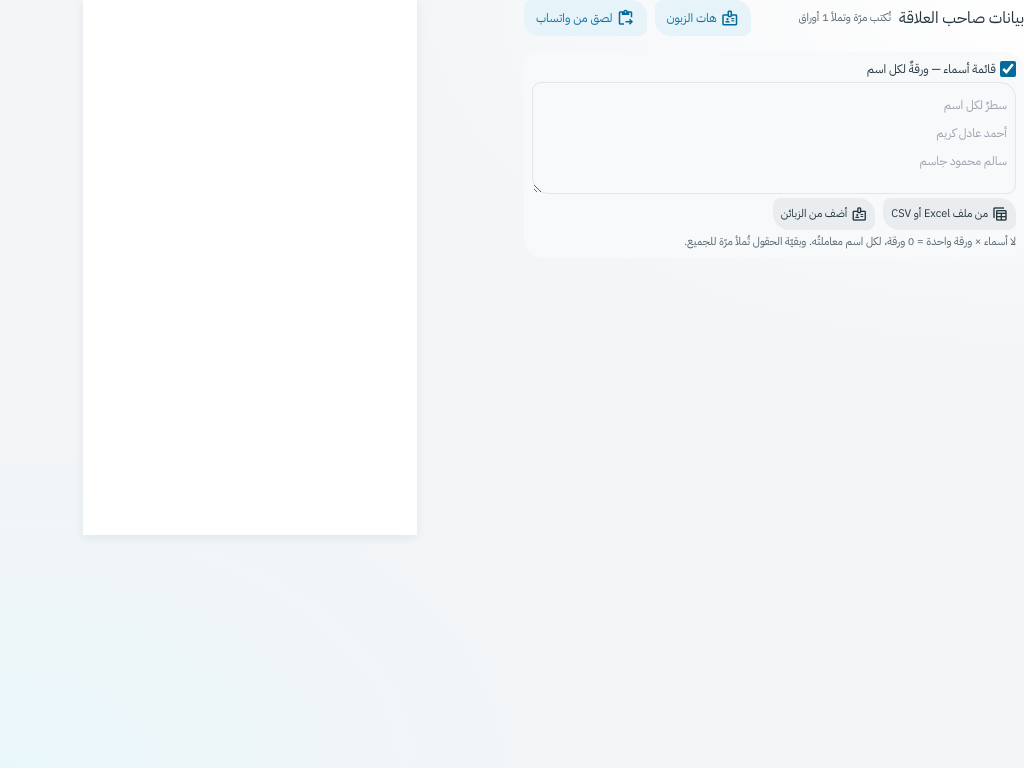
Test: الدمج في الشبّاك من جدول Excel أو CSV (D121 — S36) › ملفّ الأسماء الذي لا يُقرأ أو الفارغ يُقال تحت الزرّ (D137) › والفارغ يُقال باسمه، والذي أعمدته أرقامٌ كذلك
The width and height of the screenshot is (1024, 768).
Click the button "من ملف Excel أو CSV" at (950, 214), box [883,198,1016,230]
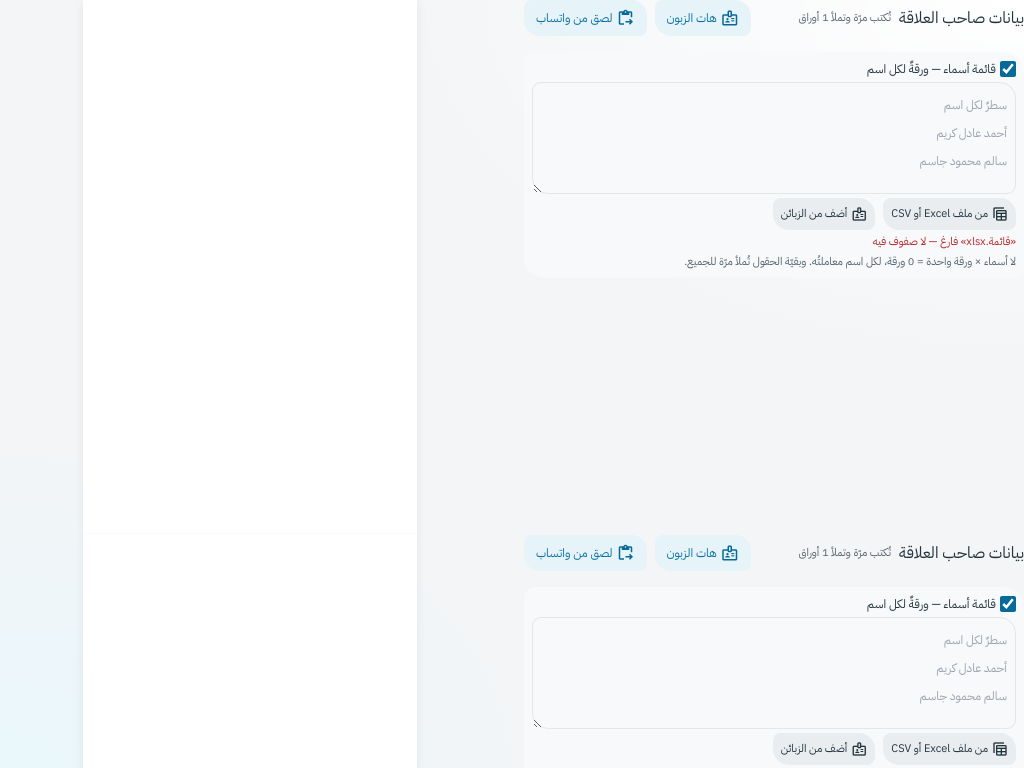
Check: the message "«قائمة.xlsx» فارغ — لا صفوف فيه" is shown, box [873,233,1016,250]
Click the 2nd button "من ملف Excel أو CSV" at (950, 749), box [883,733,1016,765]
(page scrolled)
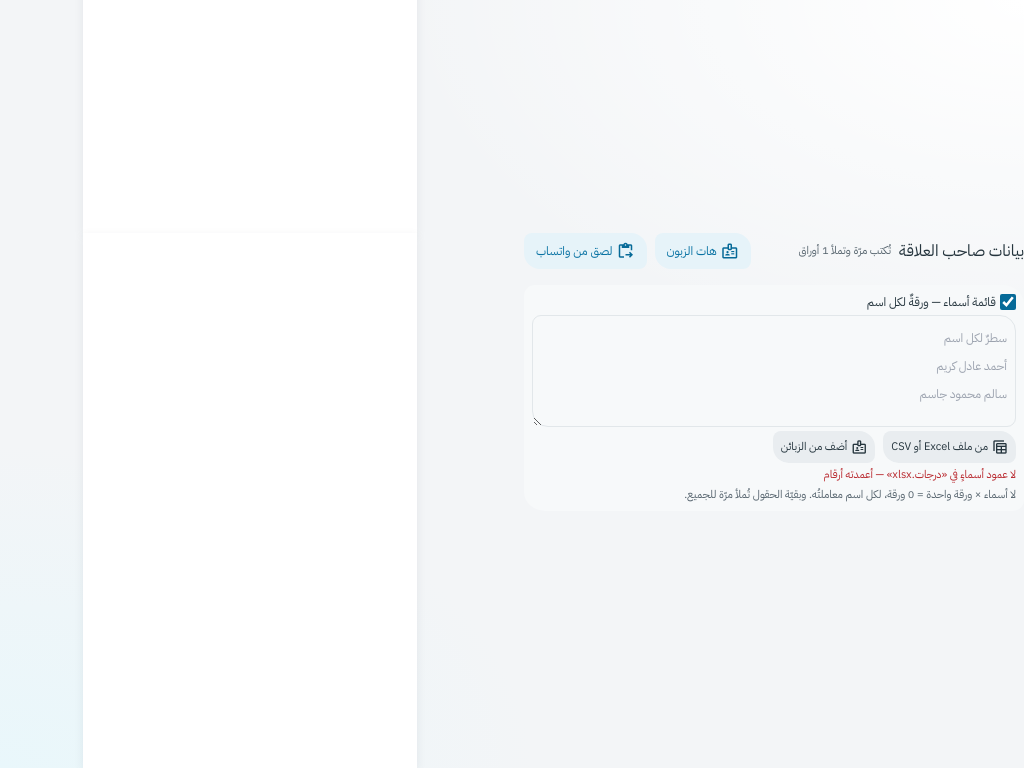
Check: the message "لا عمود أسماءٍ في «درجات.xlsx» — أعمدته أرقام" is shown, box [824,466,1016,483]
